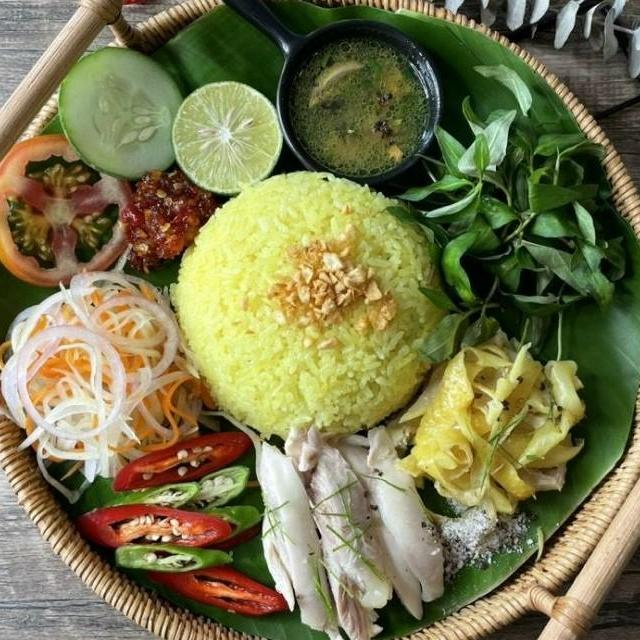com: (163, 166, 464, 446)
com ga: (0, 38, 640, 640)
rau ram: (380, 60, 634, 375)
thit ga: (246, 418, 451, 640), (386, 323, 592, 521)
